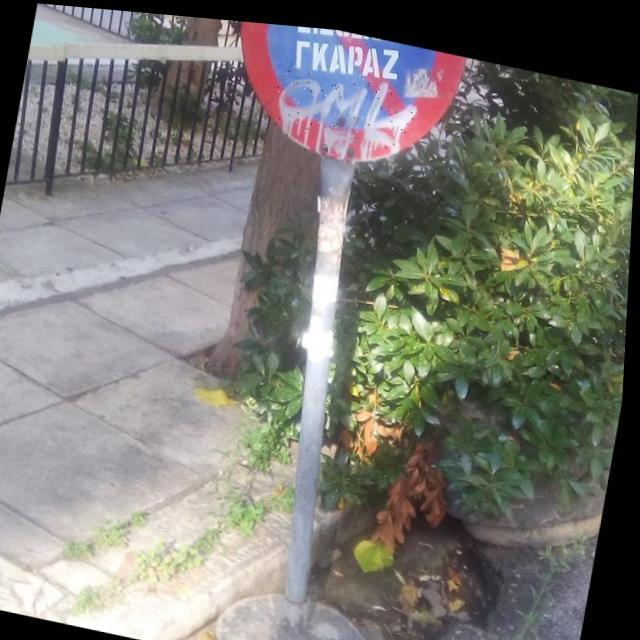-: (266, 52, 424, 168)
